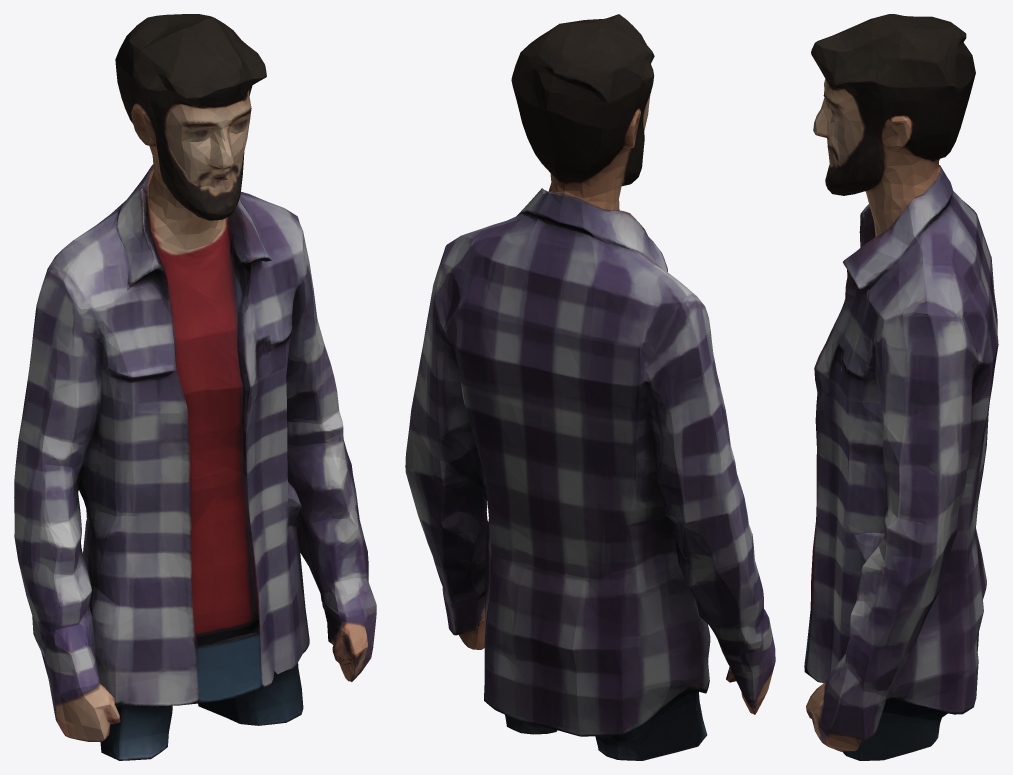
File: _render.glb
3 views of the same model, side by side, from view 1: azimuth 30°, elevation 25°; view 2: azimuth 150°, elevation 25°; view 3: azimuth 270°, elevation 25° (orthographic).
Visible parts, largest first — view 1: world; view 2: world; view 3: world.
Part boxes in pixels (x1,y1,x2,y2): world: [14, 14, 376, 760]; world: [405, 14, 775, 760]; world: [804, 14, 998, 760].
Bounding box in the file's own units: 0.497 × 0.998 × 0.2512.
1 material, 1 textured.
